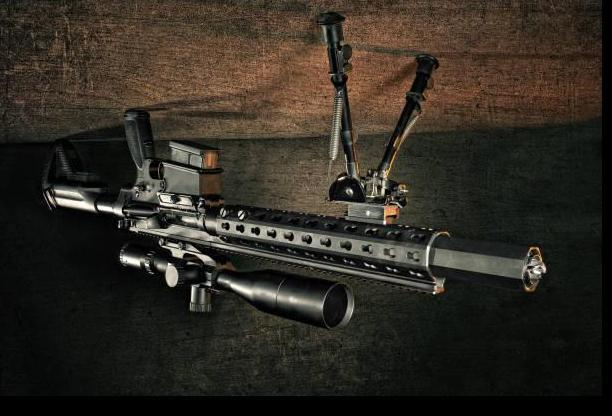larga: (41, 10, 547, 332)
